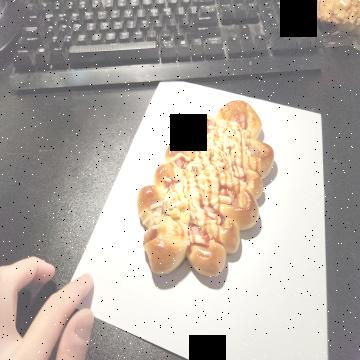pizza_bread: (136, 98, 274, 277)
